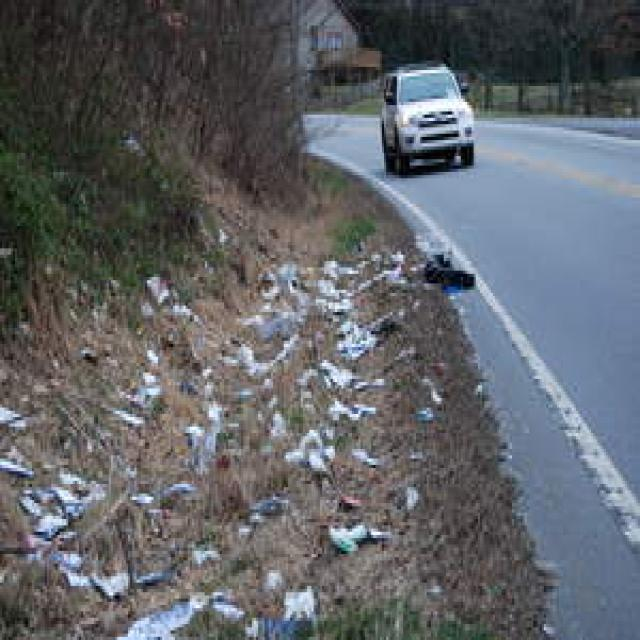garbage: (1, 241, 408, 640)
